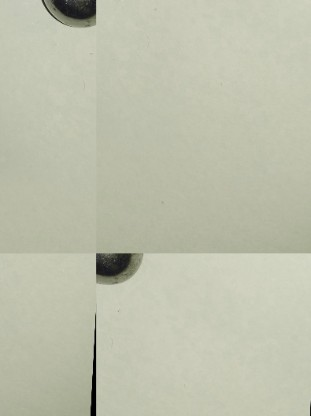ironball: (38, 0, 96, 27), (95, 254, 140, 288)
